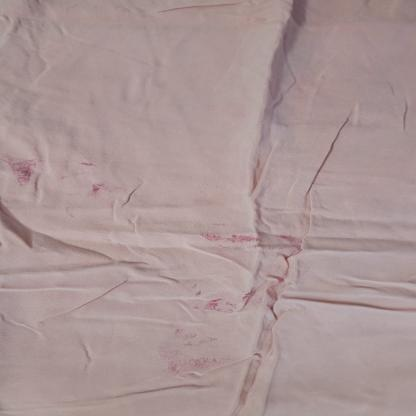spot: (198, 225, 305, 257), (0, 154, 50, 186), (80, 182, 128, 199), (155, 344, 192, 366), (50, 203, 96, 220), (176, 328, 214, 344), (163, 363, 208, 376), (190, 302, 233, 314), (176, 355, 226, 363), (236, 291, 268, 302), (74, 158, 103, 170), (53, 172, 78, 184), (192, 281, 212, 292), (192, 289, 212, 300), (215, 295, 235, 304)
